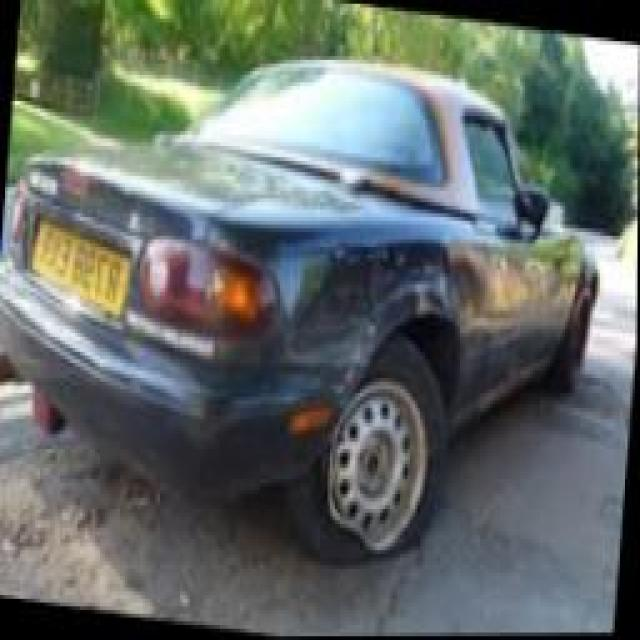Fender: (260, 206, 449, 398)
